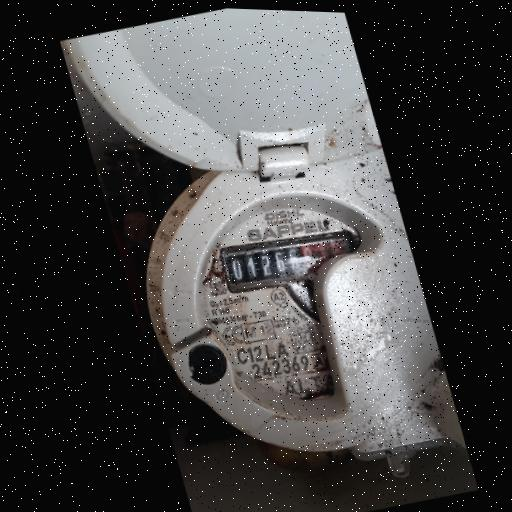0: (224, 252, 249, 285), (298, 242, 322, 275)
1: (240, 250, 265, 283)
2: (256, 249, 279, 281)
5: (313, 241, 333, 269)
6: (268, 246, 293, 280), (284, 243, 309, 277)
9: (328, 237, 347, 259)
border_water_meter_number: (219, 224, 362, 299)
